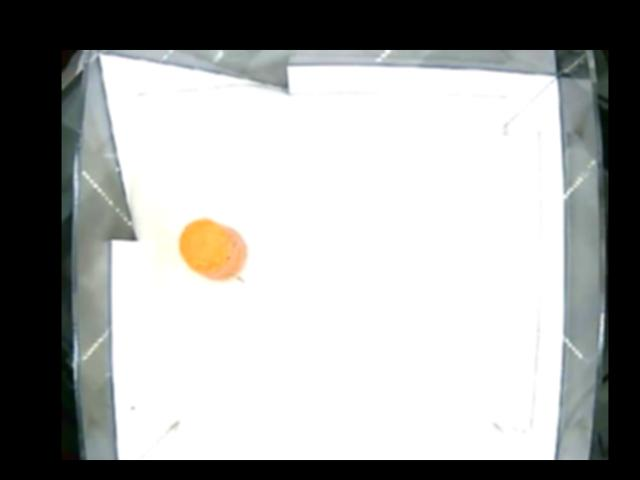Carrot: (178, 217, 246, 280)
